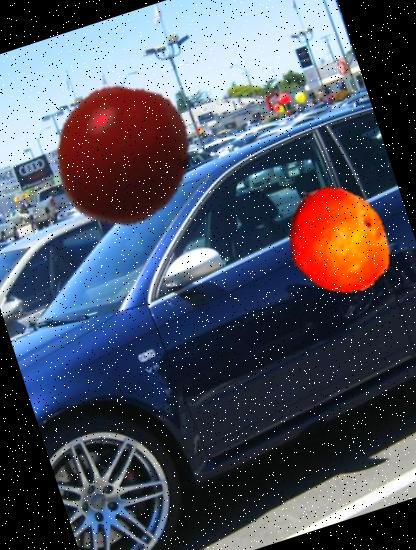Clementine: (263, 166, 409, 312)
Tomato: (33, 65, 213, 245)
